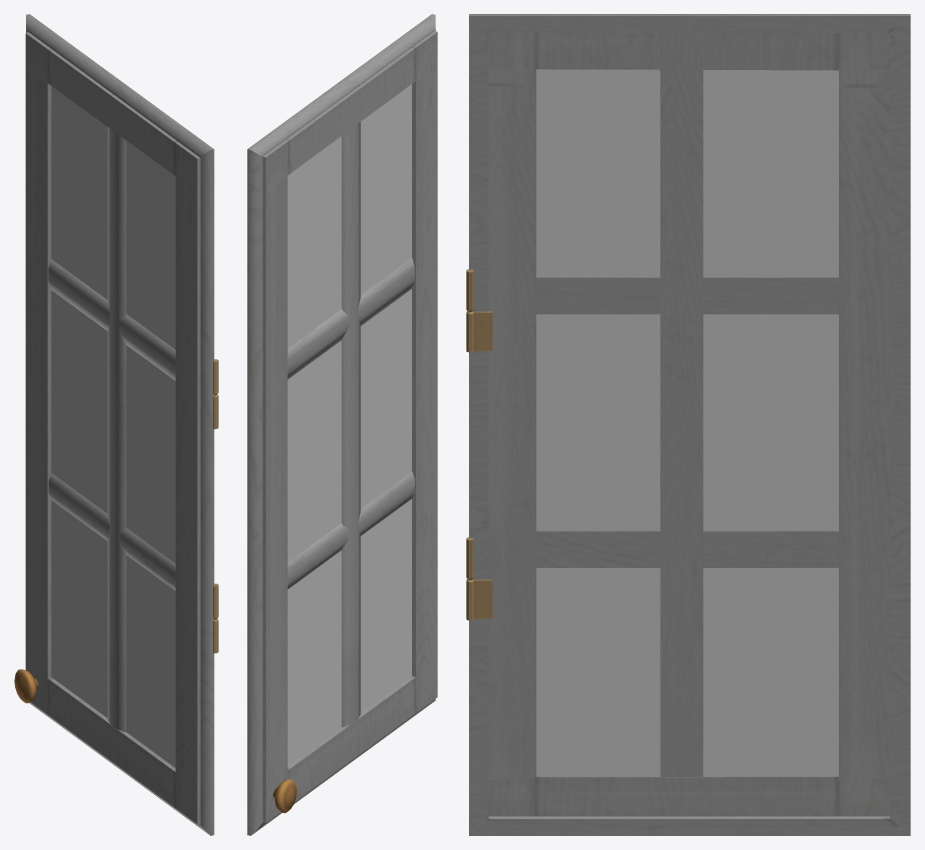
Rendered from SM_KitchenSet_B1_DoorB1.fbx.
3 views of the same model, side by side, from view 1: azimuth 30°, elevation 25°; view 2: azimuth 150°, elevation 25°; view 3: azimuth 270°, elevation 25° (orthographic). The views are drawn at different scales.
Visible parts, largest first — view 1: SM_KitchenSet_B1_DoorB1; view 2: SM_KitchenSet_B1_DoorB1; view 3: SM_KitchenSet_B1_DoorB1.
Boxes of the visible parts, x1,y1,x2,y2 form: SM_KitchenSet_B1_DoorB1: [14, 14, 218, 835]; SM_KitchenSet_B1_DoorB1: [247, 14, 437, 835]; SM_KitchenSet_B1_DoorB1: [466, 14, 910, 835].
Size of the model in its own units: 4.14 by 41.53 by 84.56.
Materials: 3 (2 with a texture image).
